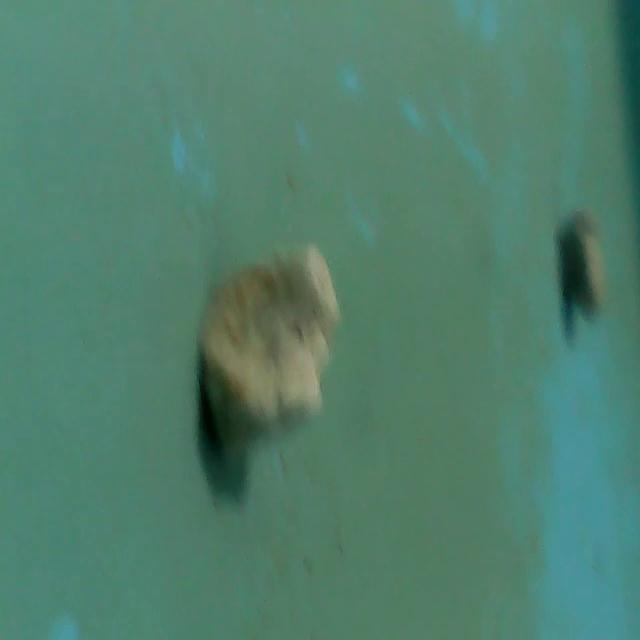rock: (197, 232, 337, 478)
